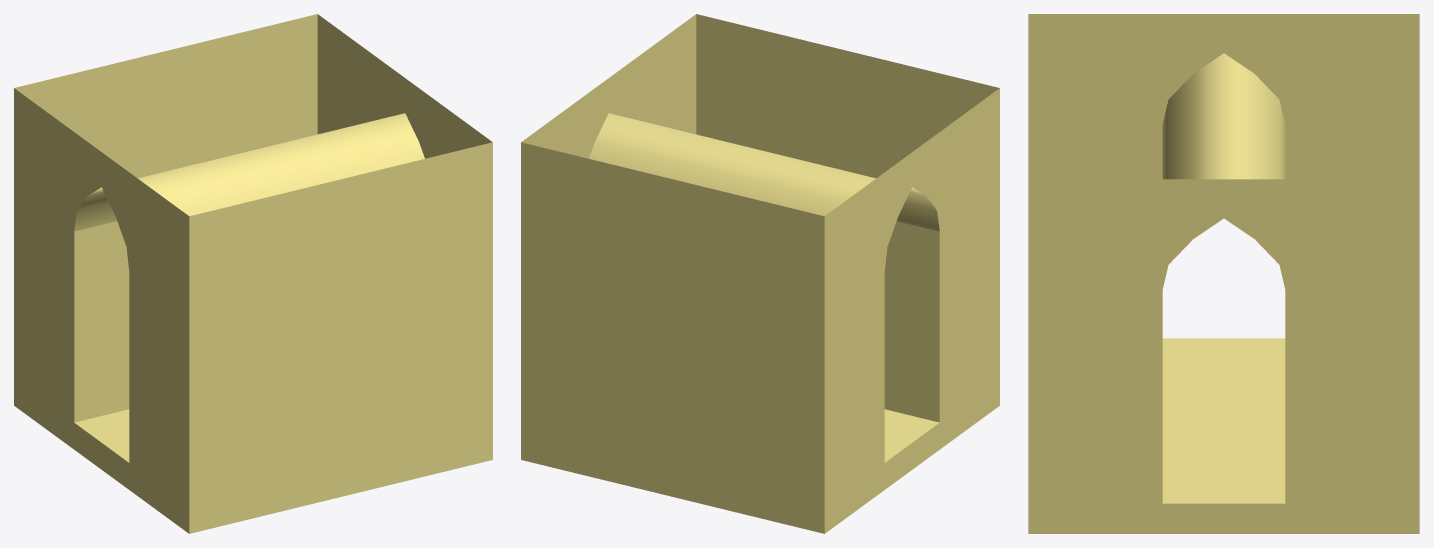
The model's file is base_door.FBX.
3 views of the same model, side by side, from view 1: azimuth 30°, elevation 25°; view 2: azimuth 150°, elevation 25°; view 3: azimuth 270°, elevation 25° (orthographic). The views are drawn at different scales.
Parts seen in each view (by area): view 1: base_doors; view 2: base_doors; view 3: base_doors.
Part boxes in pixels (box(x1,y1,x2,y2)): base_doors: box(14, 14, 492, 533); base_doors: box(521, 14, 999, 533); base_doors: box(1028, 14, 1419, 533).
Bounding box in the file's own units: 10 × 10 × 10.
